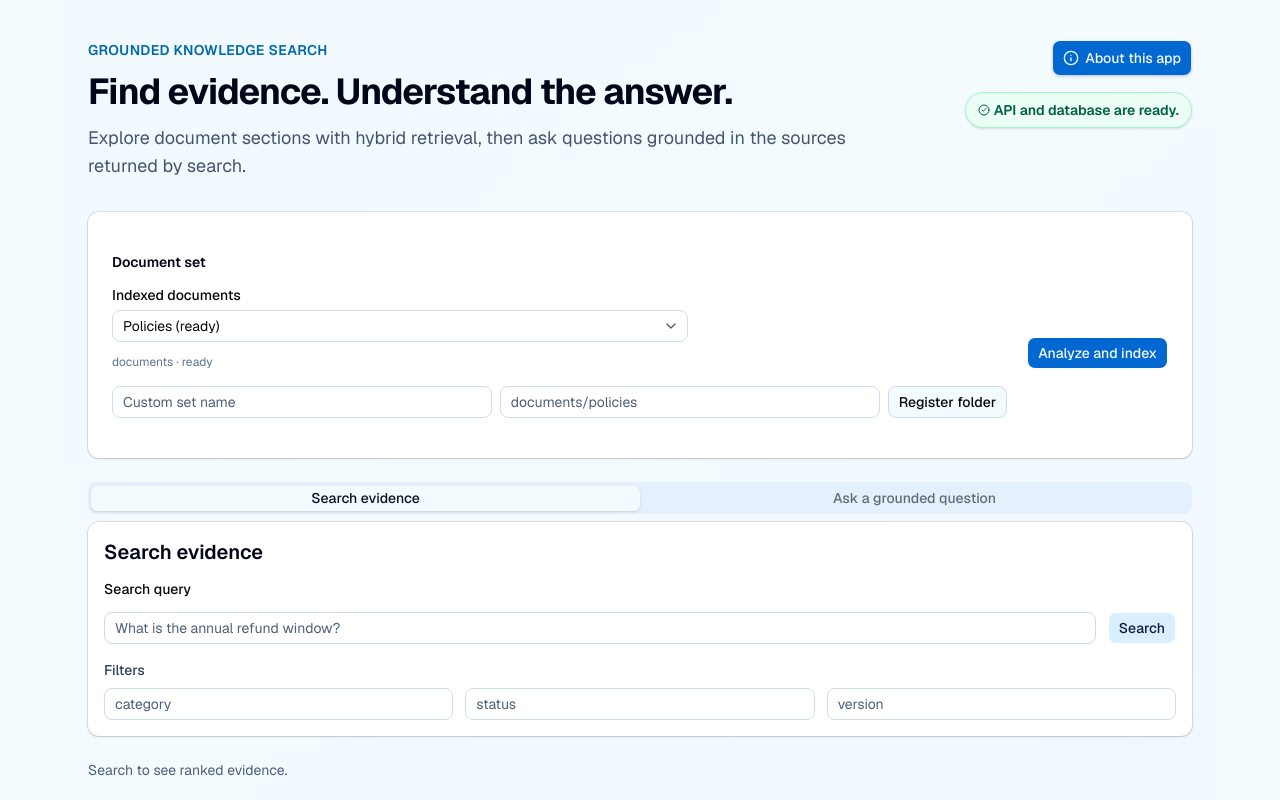
Test case: KnowledgeSearchApp › analyzes and indexes the selected document set
Expected: the dropdown named "Indexed documents" is shown, x1=112 y1=310 x2=688 y2=342
Step 1. Click the button "Analyze and index" → point(1098, 353), box x1=1027 y1=337 x2=1168 y2=369
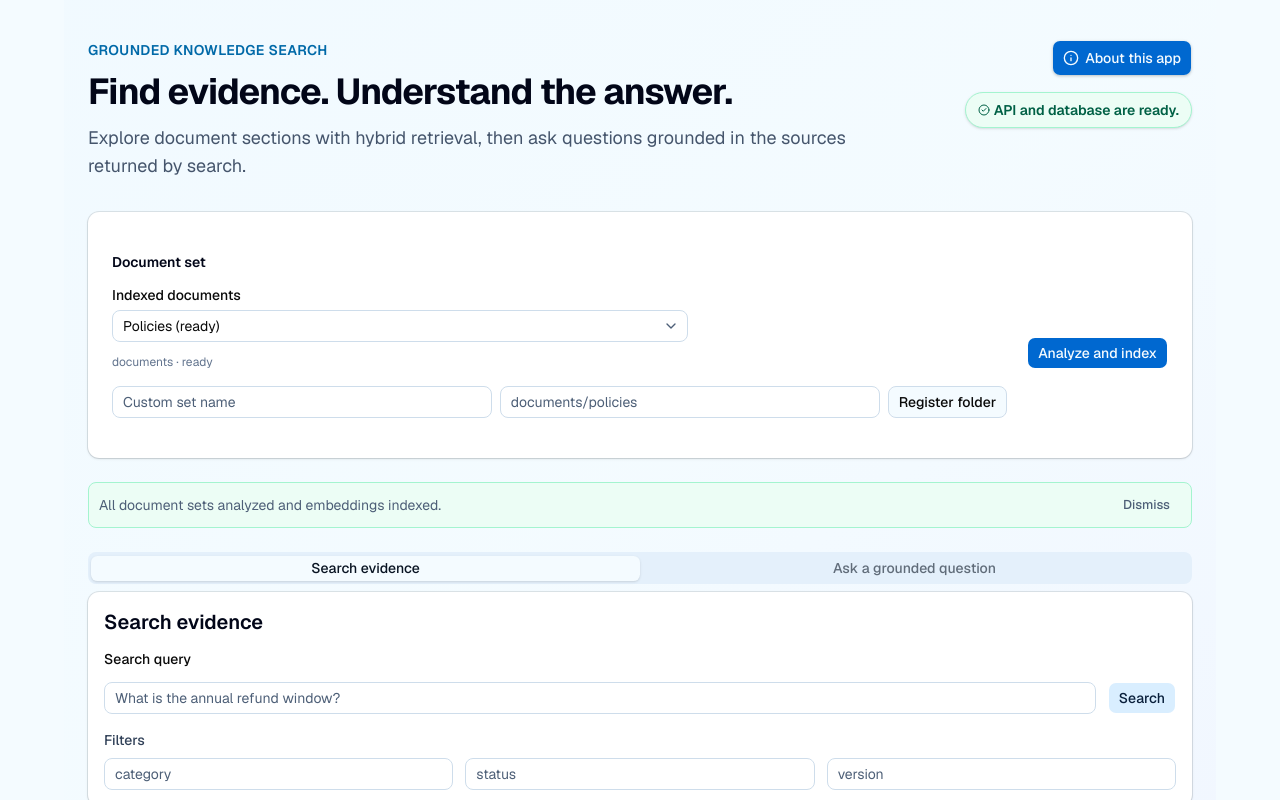
Result: the text "All document sets analyzed and embeddings indexed." is shown at x1=99 y1=495 x2=441 y2=515
Step 2. Click the button with aria-label "Dismiss notification" → point(1146, 505), box x1=1112 y1=491 x2=1181 y2=519
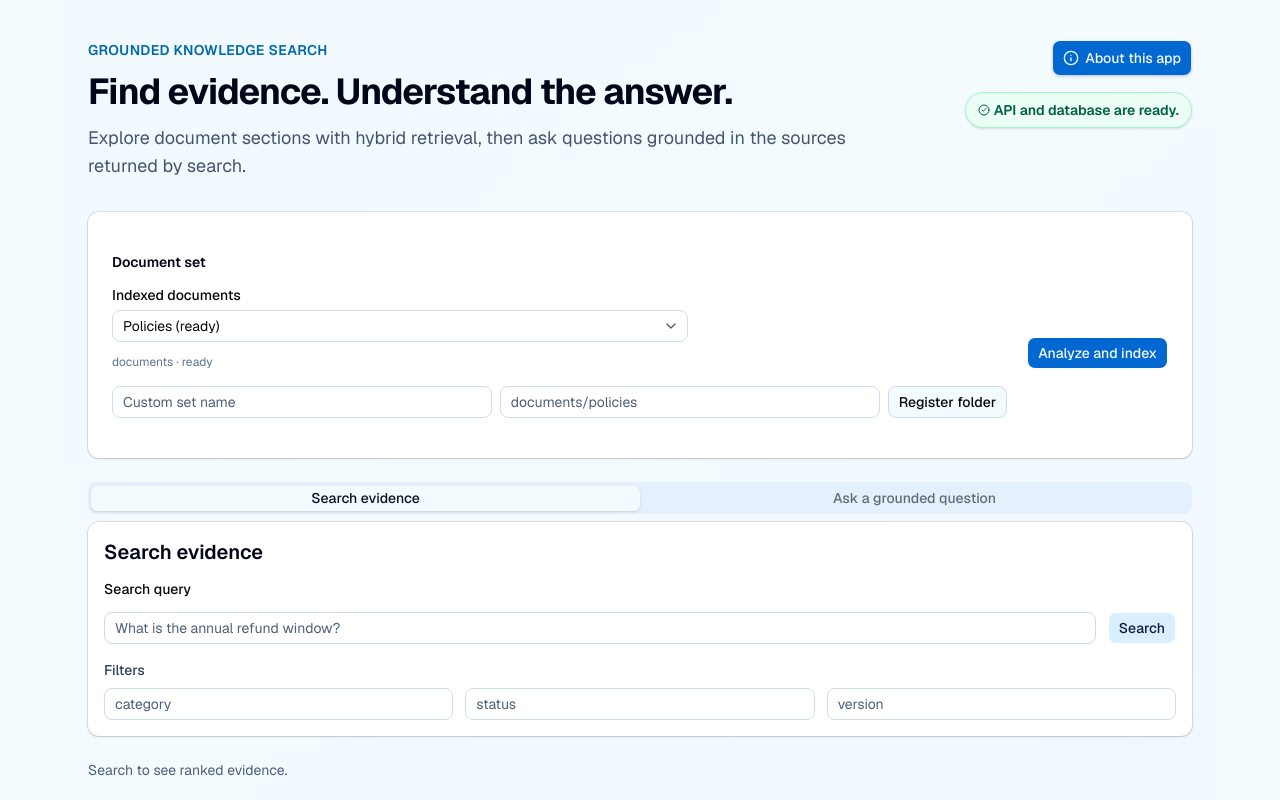
Result: the text "analyzed and embeddings indexed" is gone
